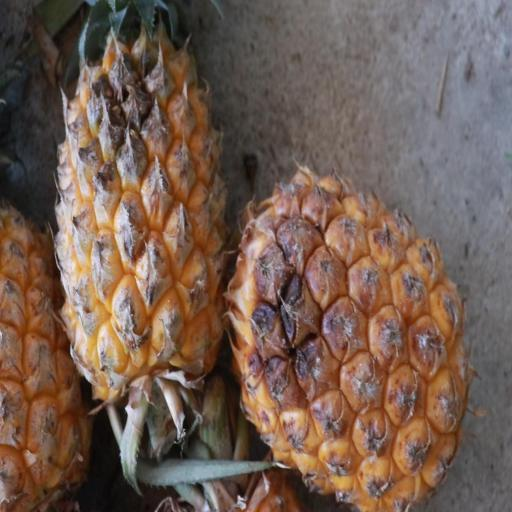Pineapple - v8 v1: (223, 178, 471, 511), (52, 0, 229, 431)
